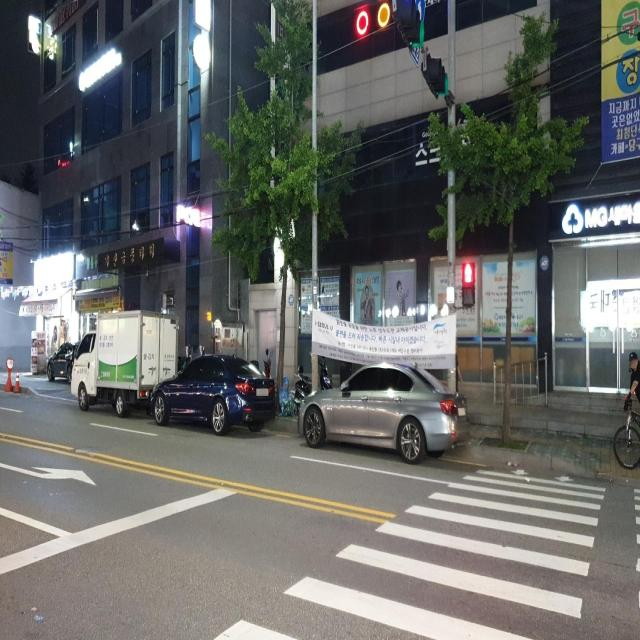빨간불: (459, 260, 476, 310)
횡단보도: (210, 467, 608, 639)
